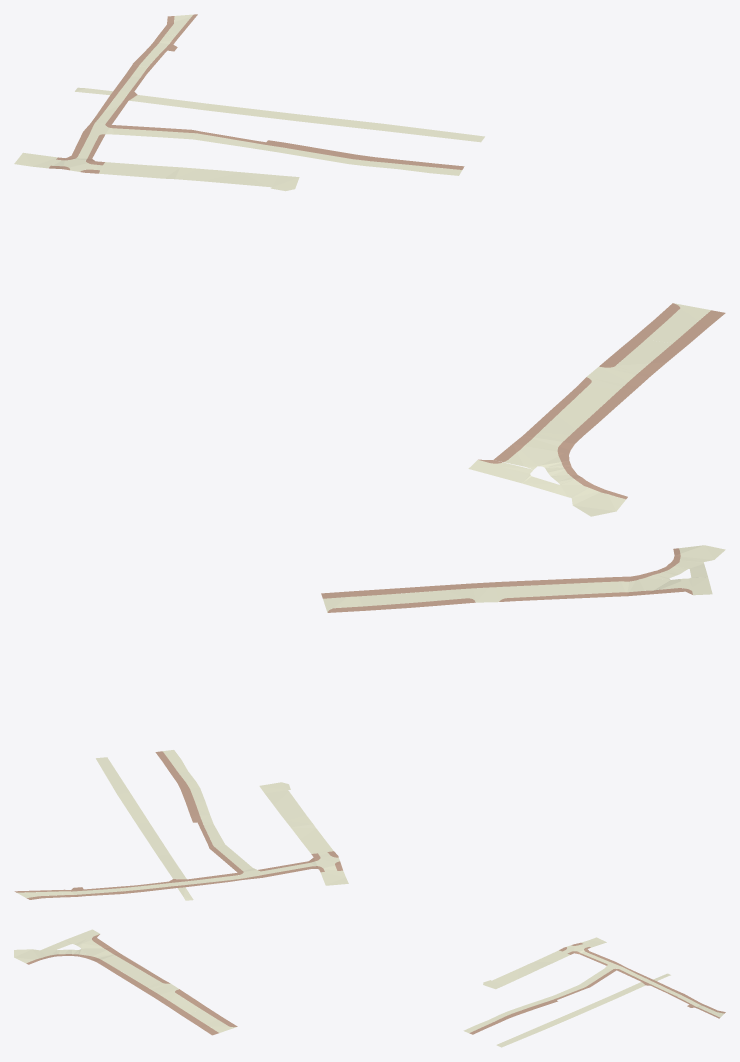
Rendered from data86.glb.
3 renders of one model, top to bottom at view 1: azimuth 30°, elevation 25°; view 2: azimuth 150°, elevation 25°; view 3: azimuth 270°, elevation 25°, orthographic. The views are drawn at different scales.
Bounding box in the file's own units: 118 × 7.06 × 332.
